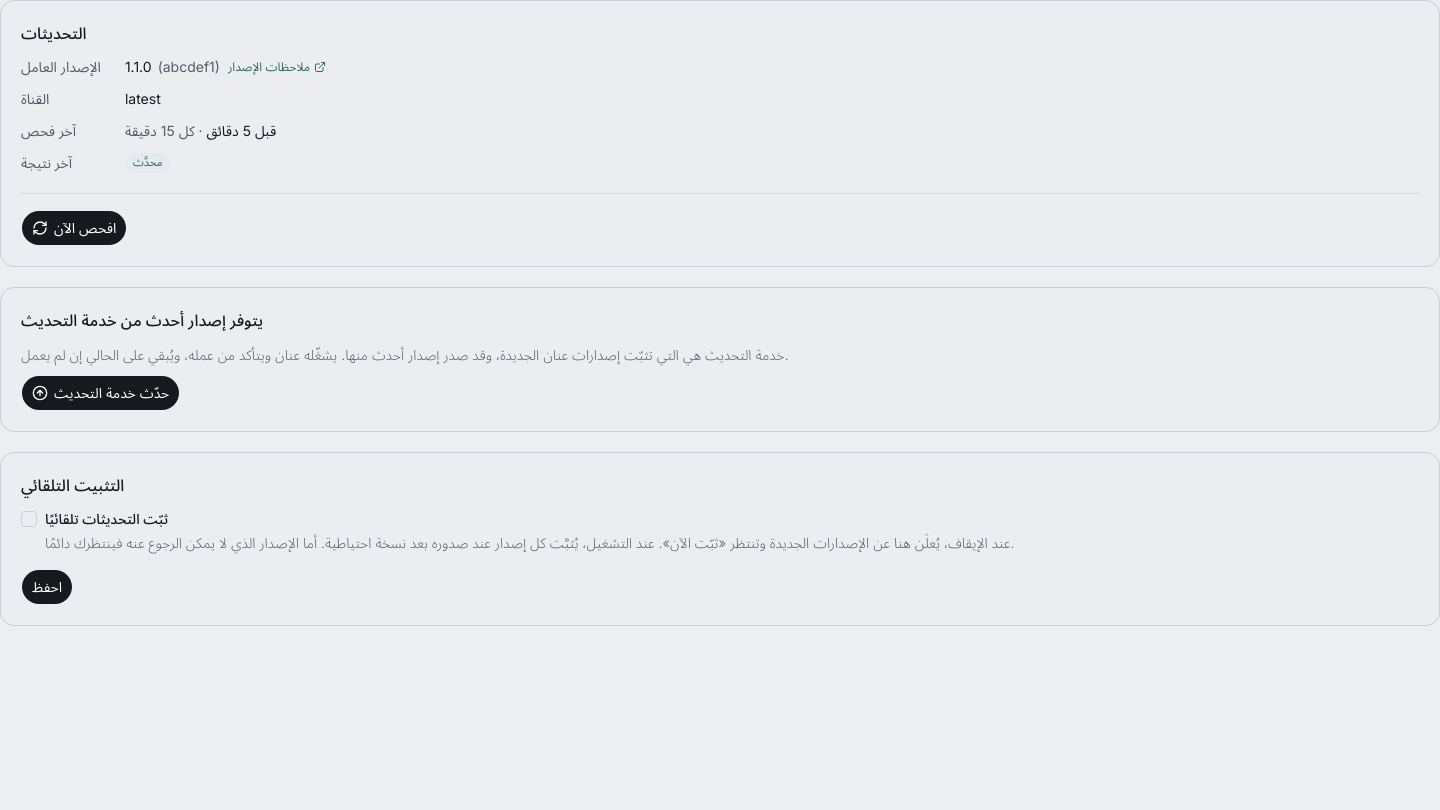
it: ADMIN-B74 a replacement that did not come up says the current updater was kept, in Arabic
What coordinates should you click on to do the following:
click the button "حدّث خدمة التحديث"
I would click on:
 (101, 393)
Its box is [21, 375, 180, 411].
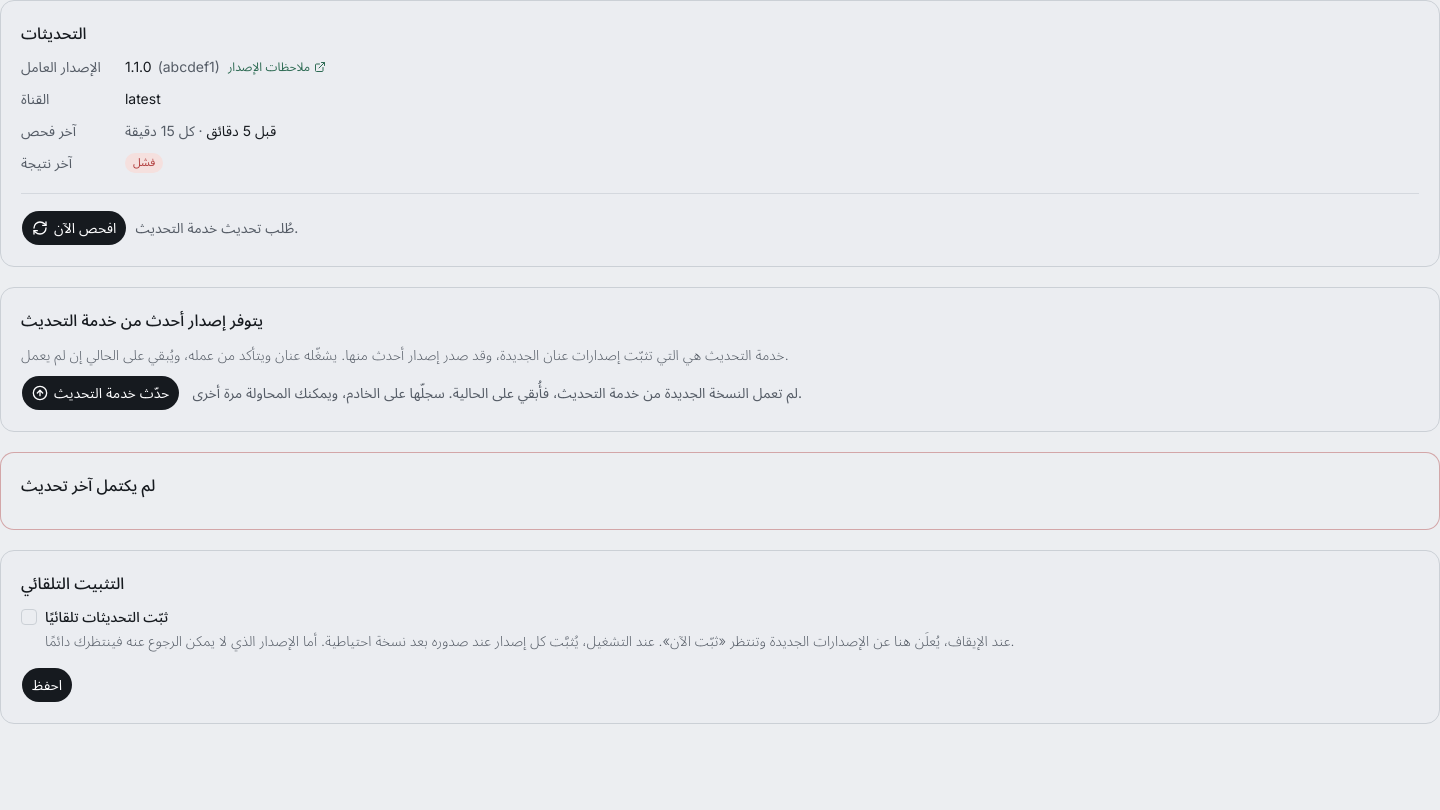
Expected: the 2nd message shows "لم تعمل النسخة الجديدة من خدمة التحديث، فأُبقي على الحالية. سجلّها على الخادم، ويمكنك المحاولة مرة أخرى.", [192, 384, 802, 401]
